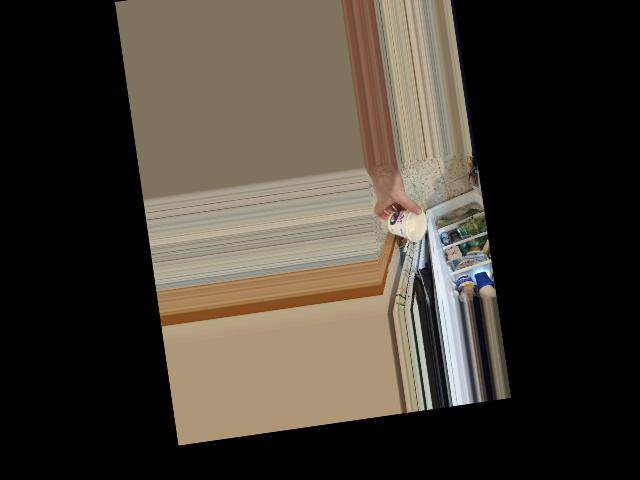cotage: (389, 207, 425, 247)
